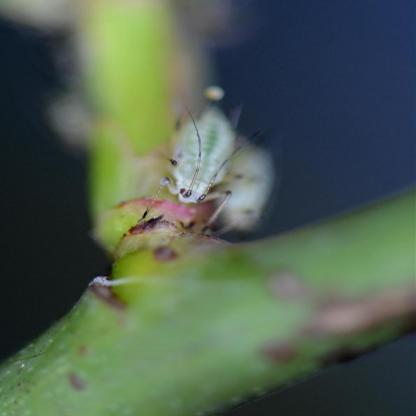aphid: (154, 83, 243, 232)
